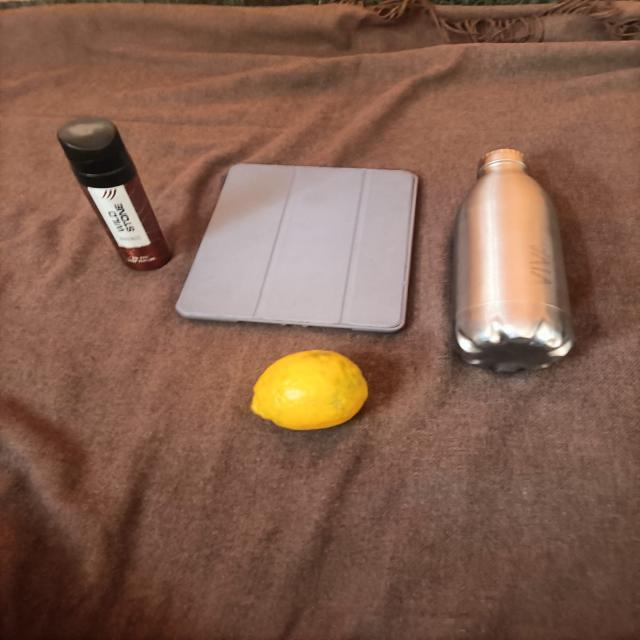bottle: (437, 139, 591, 392)
orange: (232, 349, 384, 445)
spray: (37, 105, 175, 282)
tablet: (168, 138, 425, 346)
